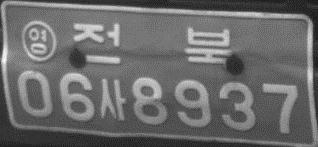0: (17, 69, 52, 117)
3: (218, 81, 256, 132)
6: (58, 72, 94, 124)
7: (260, 82, 298, 134)
8: (131, 76, 167, 126)
9: (173, 78, 212, 128)
사: (98, 78, 127, 123)
영: (20, 20, 56, 61)
전북_D: (73, 20, 230, 68)
